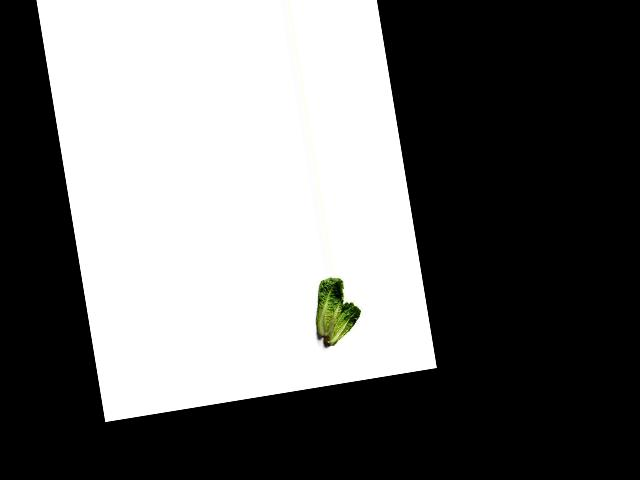lettuce: (316, 300, 366, 350)
